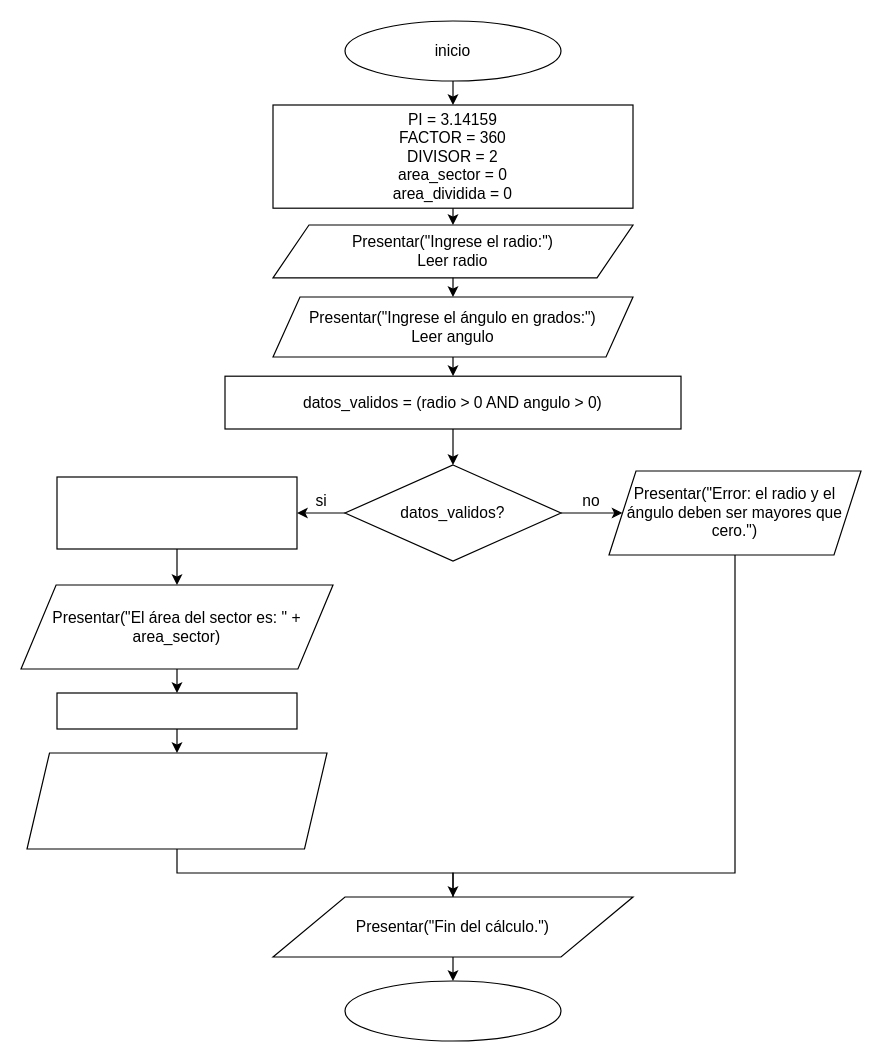
Some shapes in this 882 by 1062 pixel diagram are drawn without their labels. The centre of each missing label's shape, as x and y in pixels:
area_dividida = area_sector / DIVISOR: (x=176, y=710)
area_sector = (PI * radio * radio * angulo) / FACTOR: (x=176, y=512)
fin: (x=452, y=1010)
Presentar("El área dividida entre " + DIVISOR + " es: " + area_dividida): (x=176, y=800)
